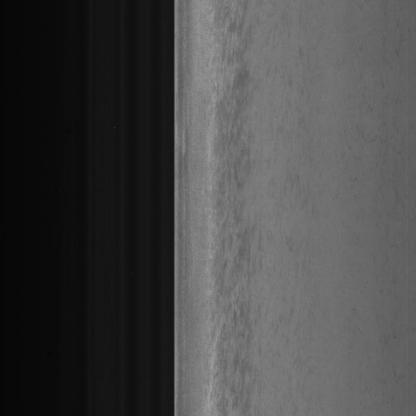silk_spot: (203, 34, 266, 385)
